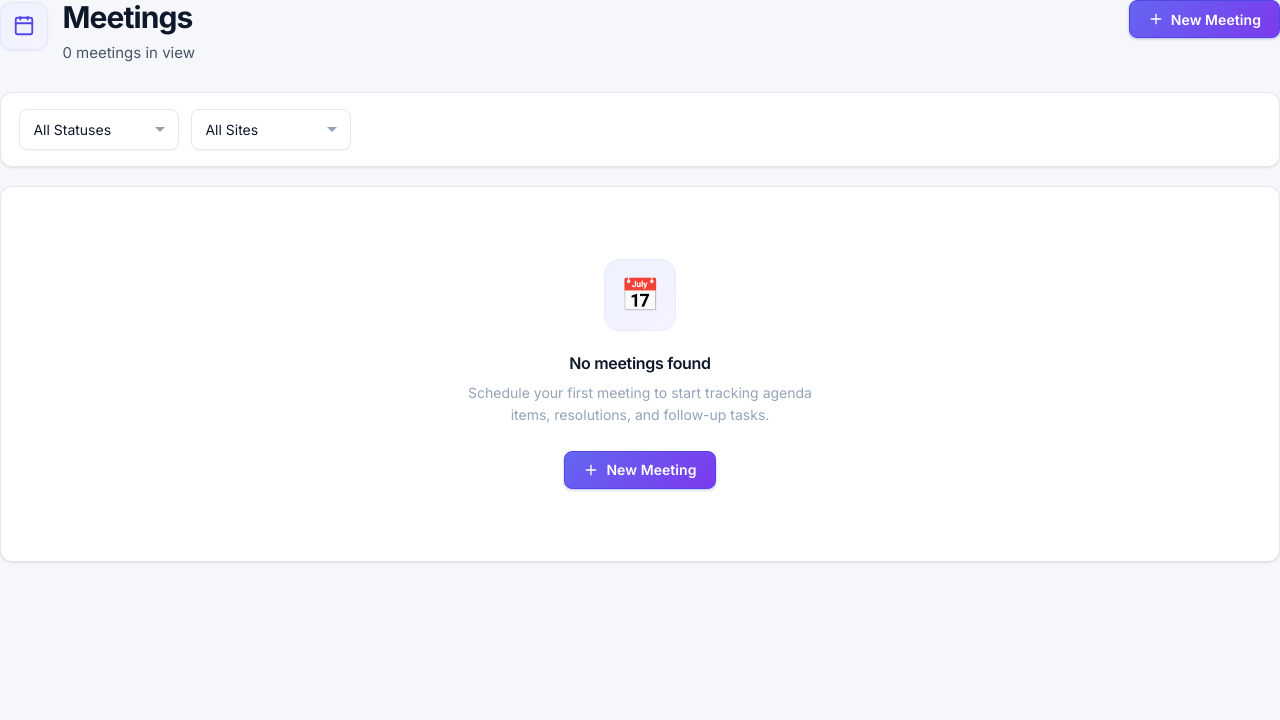
Test case: MeetingsPage — create modal › opens the New Meeting modal when the button is clicked
This screenshot has width=1280, height=720.
Check: the text "No meetings found" is shown, box 569,351 -> 711,375
Click the 1st button "New Meeting": (1204,19) 1129,0 -> 1279,38
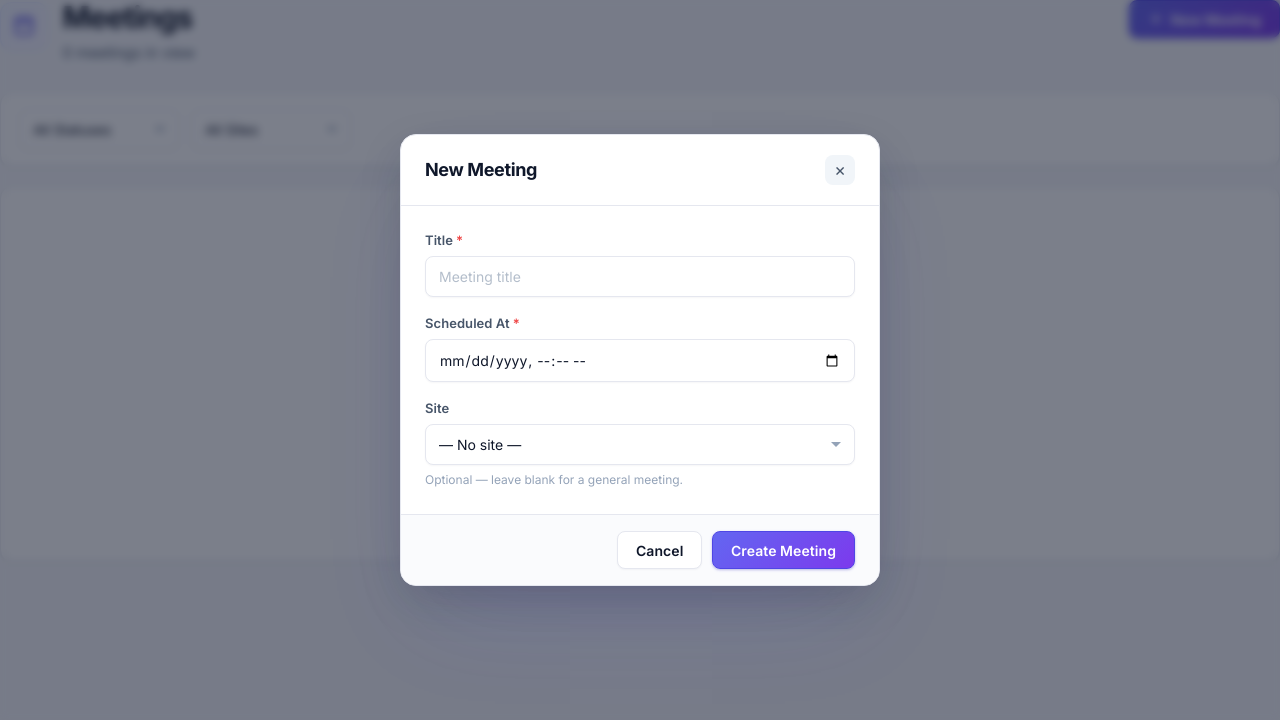
Check: the heading "New Meeting" is shown, box 425,156 -> 537,184
